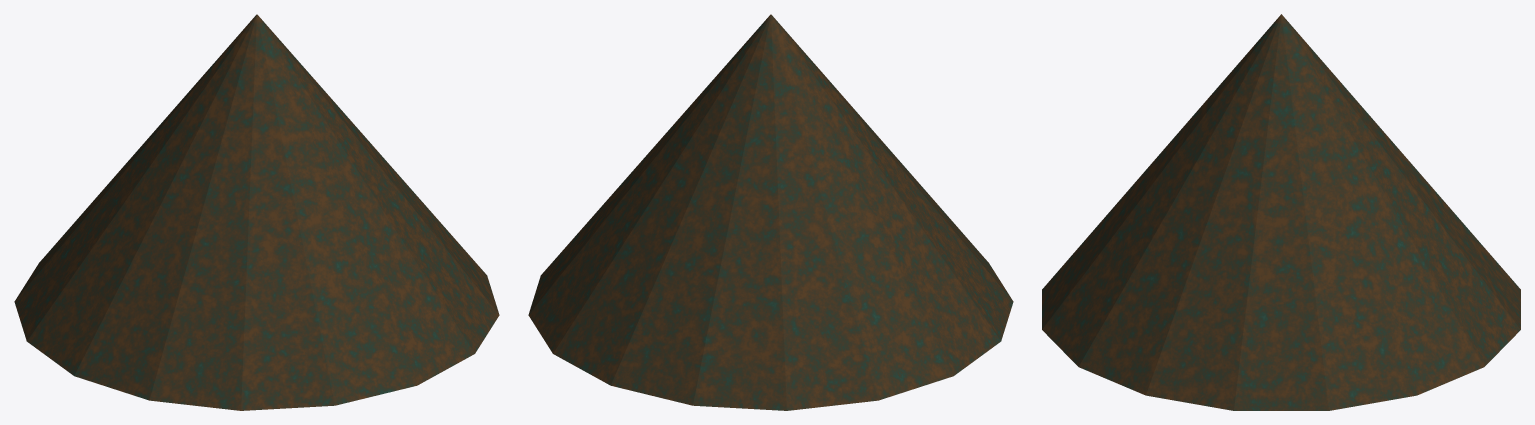
Rendered from upper-roof-lining.fbx.
3 renders of one model, left to right at view 1: azimuth 30°, elevation 25°; view 2: azimuth 150°, elevation 25°; view 3: azimuth 270°, elevation 25°, orthographic.
Parts seen in each view (by area): view 1: Tower Roof Lining; view 2: Tower Roof Lining; view 3: Tower Roof Lining.
Part boxes in pixels (bbox=[...]): Tower Roof Lining: bbox=[14, 14, 499, 410]; Tower Roof Lining: bbox=[528, 14, 1013, 410]; Tower Roof Lining: bbox=[1042, 14, 1520, 410].
Bounding box in the file's own units: 643 × 643 × 438.
Materials: 1 (1 with a texture image).
